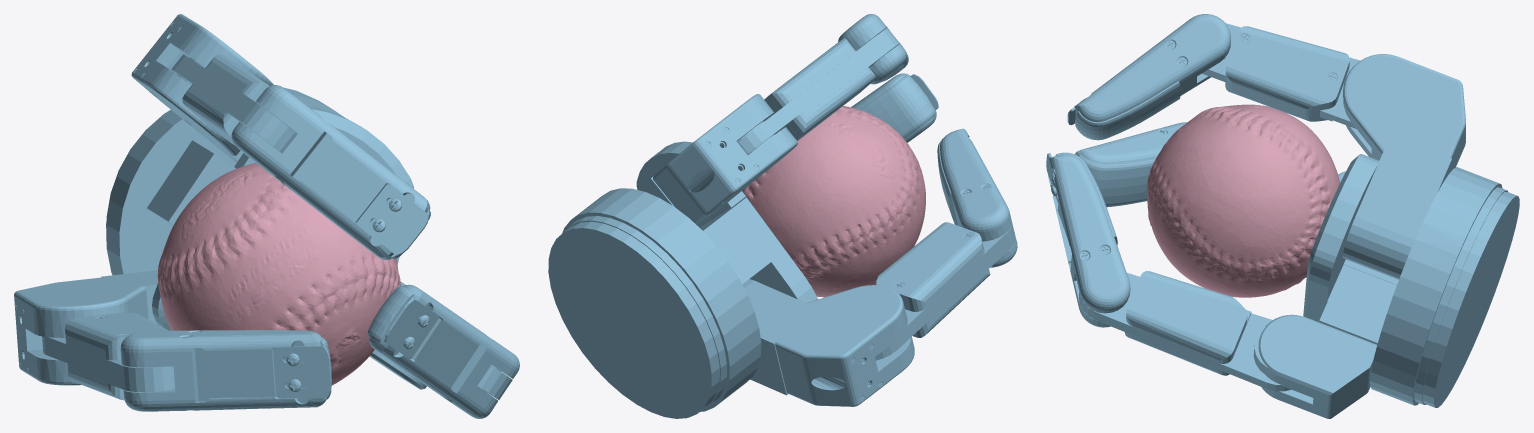
The picture shows the model from 3 angles, left to right: view 1: azimuth 30°, elevation 25°; view 2: azimuth 150°, elevation 25°; view 3: azimuth 270°, elevation 25°; orthographic projection. The views are drawn at different scales.
Visible parts, largest first — view 1: world, baseball.stl; view 2: world, baseball.stl; view 3: world, baseball.stl.
Part boxes in pixels (x1,y1,x2,y2): world: (14, 14, 519, 418); baseball.stl: (157, 163, 400, 385); world: (548, 14, 1017, 418); baseball.stl: (742, 106, 925, 297); world: (1046, 14, 1519, 418); baseball.stl: (1147, 104, 1339, 297).
Bounding box in the file's own units: 0.1449 × 0.138 × 0.1768.
